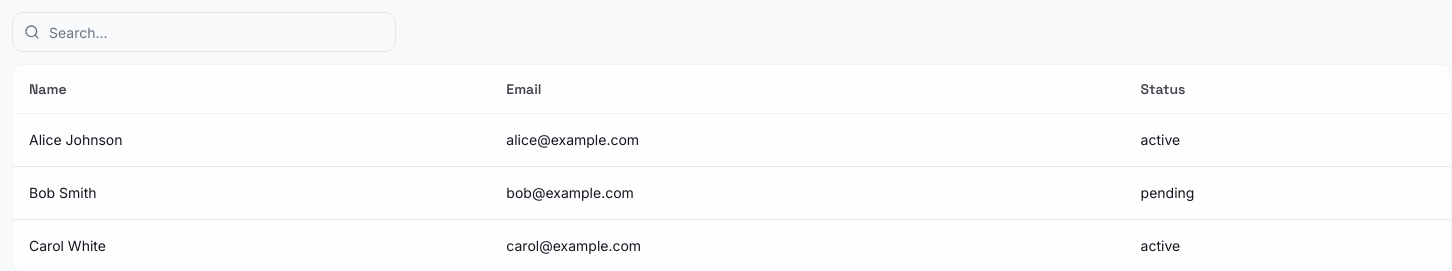
Test: DataTable › filters rows by search input
Type "alice" into the field with placeholder "Search..." at (204, 32), box [12,12,396,52]
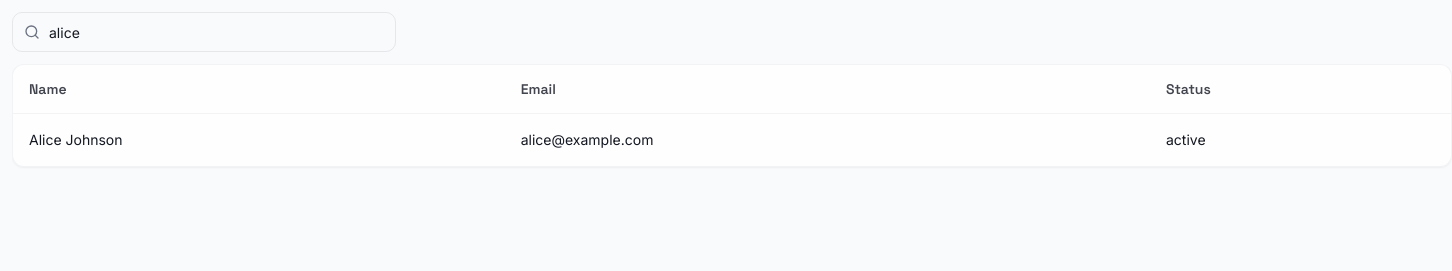
Expected: the text "Alice Johnson" is shown, [13,113,505,166]
Expected: the text "Bob Smith" is gone
Expected: the text "Carol White" is gone
